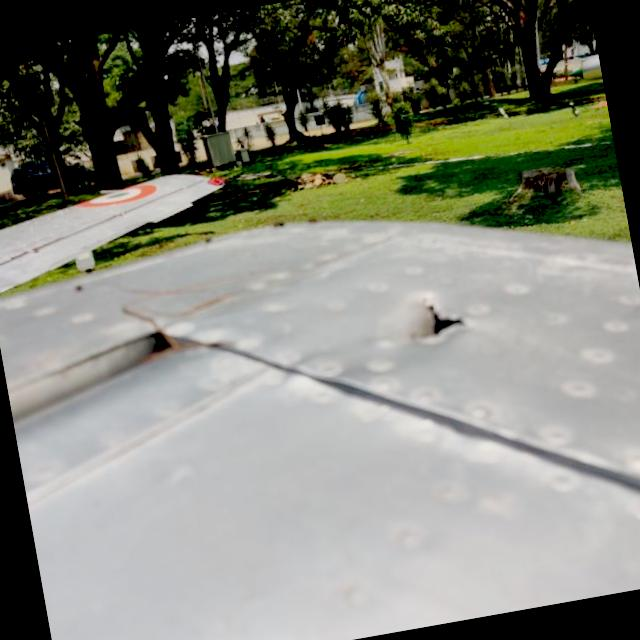crack: (388, 280, 481, 358)
